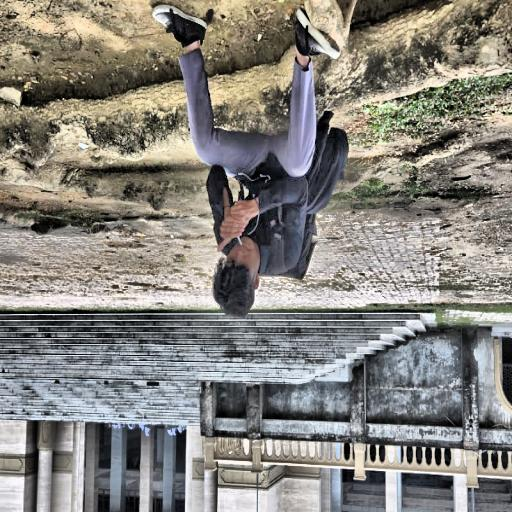Merokok: (236, 236, 243, 245)
Rokok: (219, 200, 260, 288)
